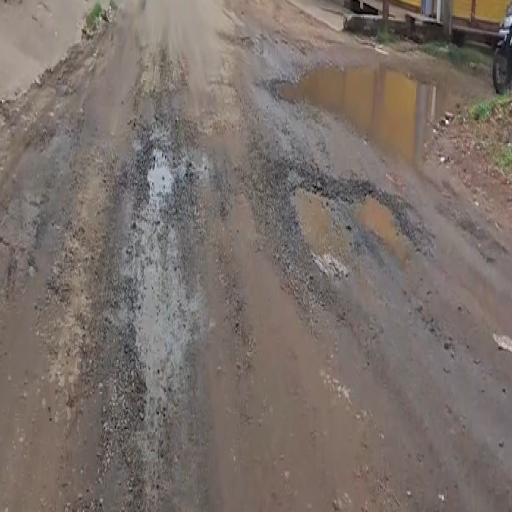pothole: (256, 85, 431, 358)
ravelling: (82, 90, 228, 503)
